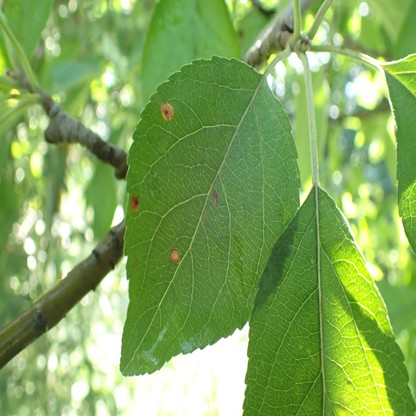frogeye_leaf_spot: (161, 102, 173, 120), (212, 187, 219, 207), (131, 195, 139, 211), (170, 250, 179, 262)
